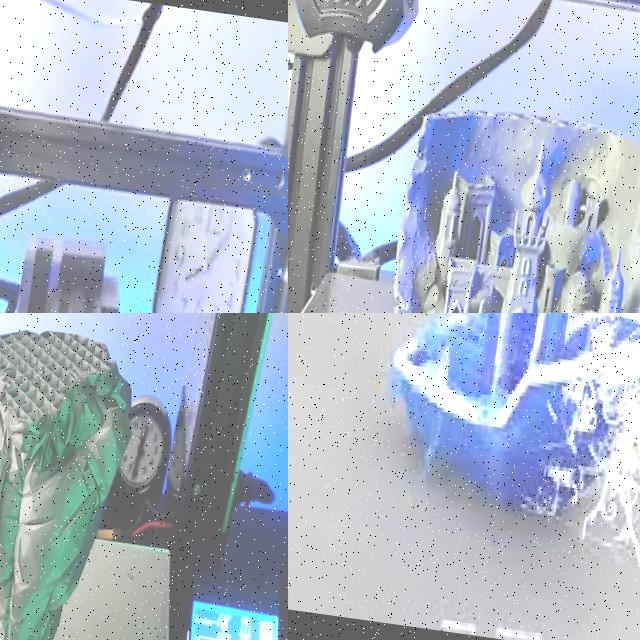spaghetti: (552, 313, 640, 577), (401, 313, 453, 385), (460, 313, 503, 339)
